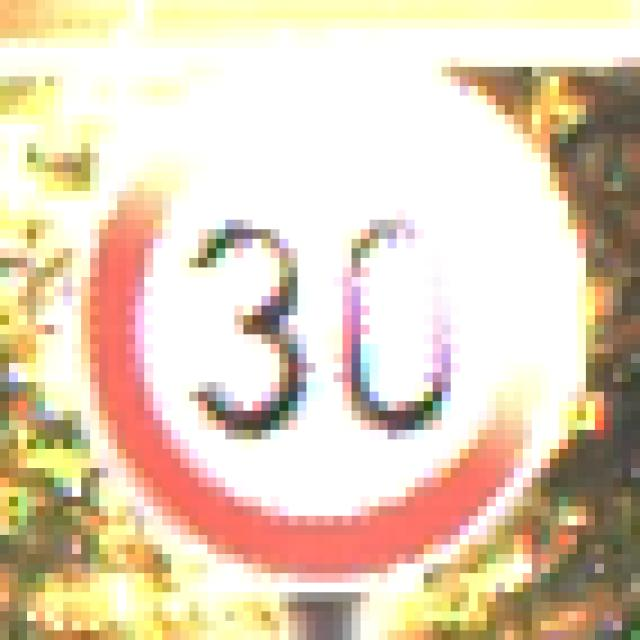Speed Limit -30-: (49, 52, 582, 578)
